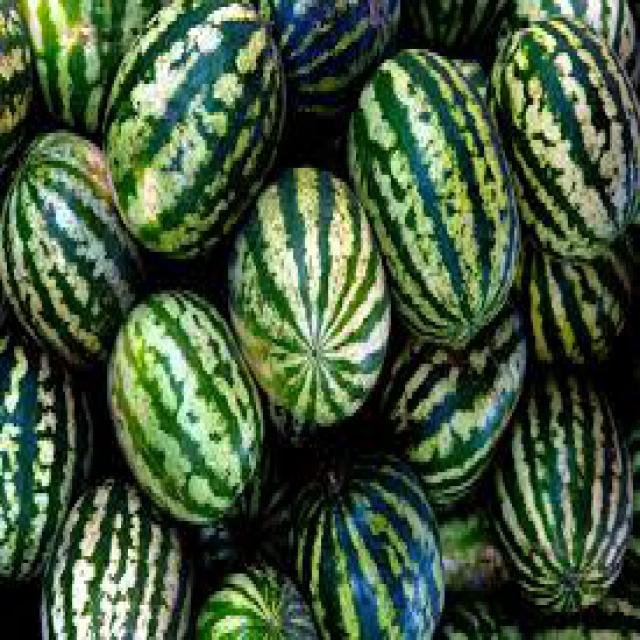watermelon: (105, 0, 284, 259), (349, 49, 505, 343), (235, 168, 386, 423), (107, 290, 263, 528), (489, 21, 635, 255), (493, 367, 631, 605), (386, 301, 526, 500), (2, 133, 133, 332), (302, 468, 447, 636), (42, 479, 191, 637), (0, 329, 90, 579), (275, 0, 398, 112), (528, 238, 626, 357), (20, 0, 109, 129), (196, 563, 316, 637)
